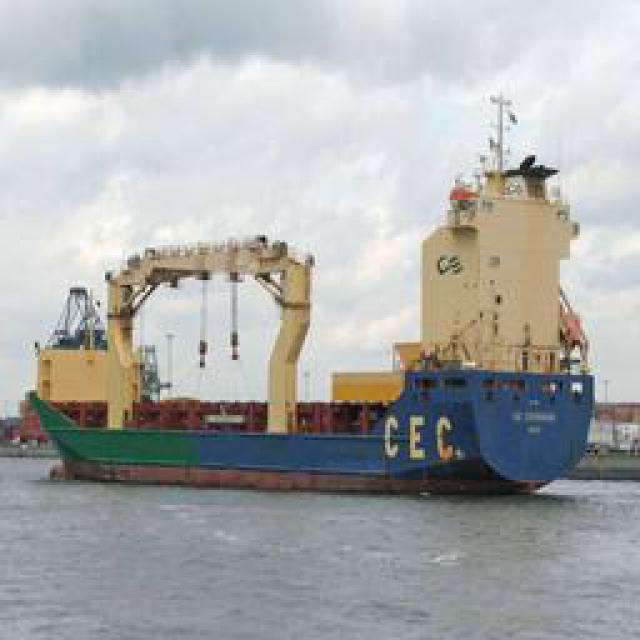Ship: (20, 288, 600, 493)
